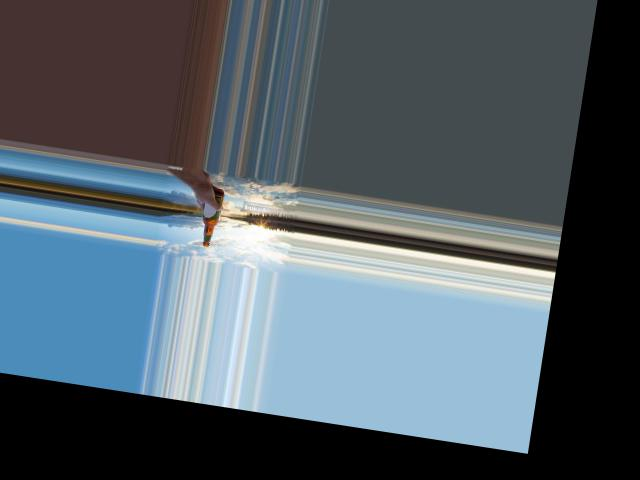beer: (198, 189, 225, 248)
